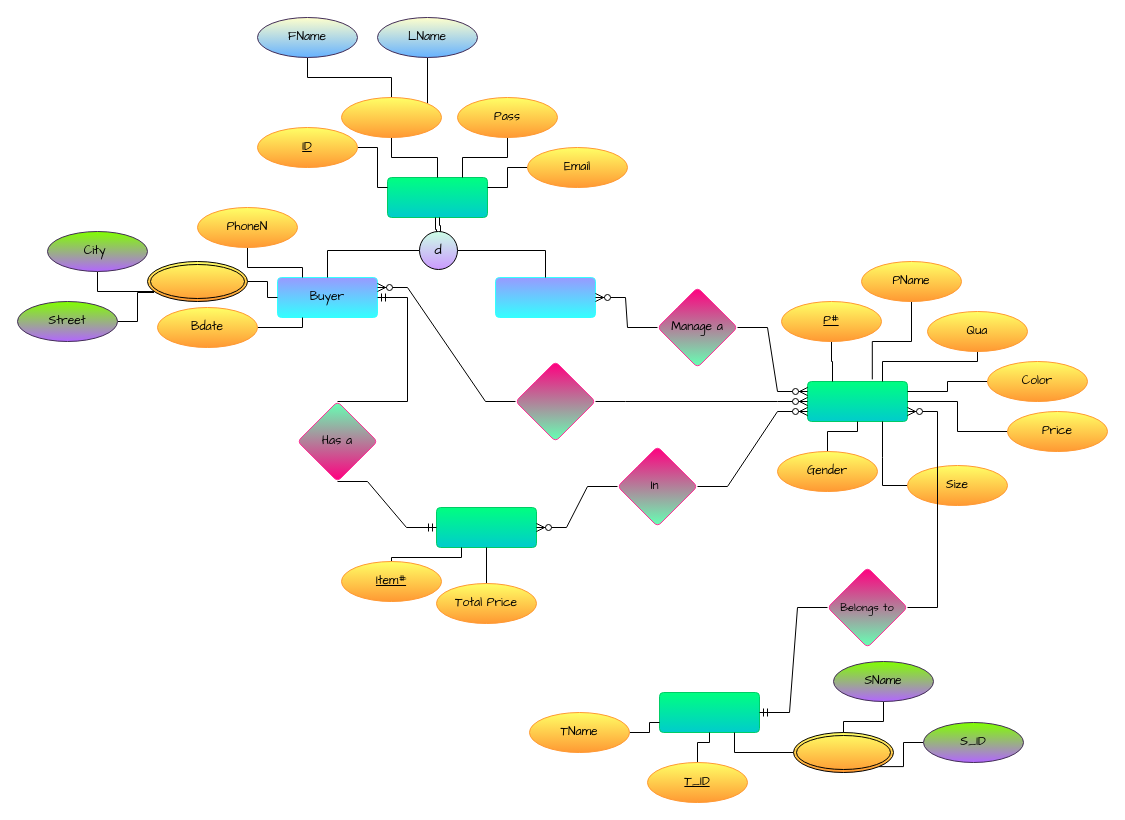
This 1125x820 diagram has some shape labels left out. The centre of each missing label's shape, as x and y in pixels:
"Address" belongs at (197,281).
"Buy a" belongs at (555,401).
"Name" belongs at (391,117).
"Product" belongs at (857,401).
"Seller" belongs at (545,297).
"Shoping Bag" belongs at (486,527).
"Style" belongs at (843,752).
"Type" belongs at (709,712).
"User" belongs at (437,197).
